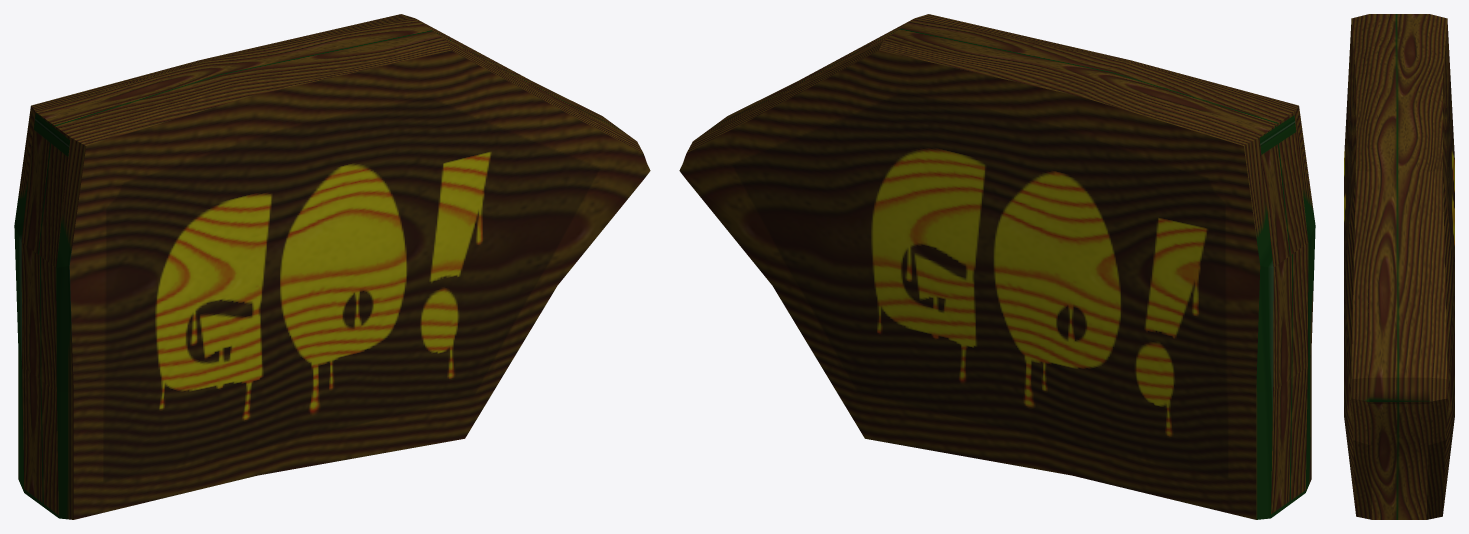
File: cartello02.FBX
The picture shows the model from 3 angles, left to right: view 1: azimuth 30°, elevation 25°; view 2: azimuth 150°, elevation 25°; view 3: azimuth 270°, elevation 25°; orthographic projection. The views are drawn at different scales.
Visible parts, largest first — view 1: Cartello002; view 2: Cartello002; view 3: Cartello002.
Part boxes in pixels (x1,y1,x2,y2): Cartello002: (14,14,650,519); Cartello002: (679,14,1315,519); Cartello002: (1344,14,1454,519).
Bounding box in the file's own units: 4.5 × 2.95 × 0.8463.
1 material, 1 textured.
